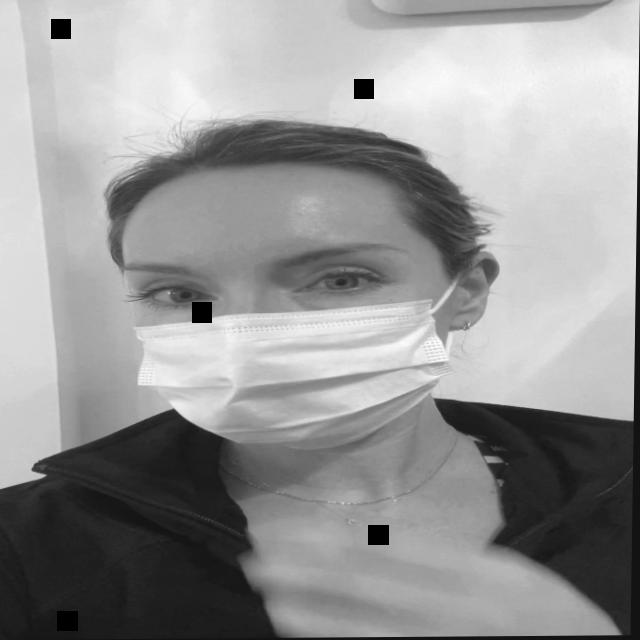Mask: (95, 143, 503, 483)
